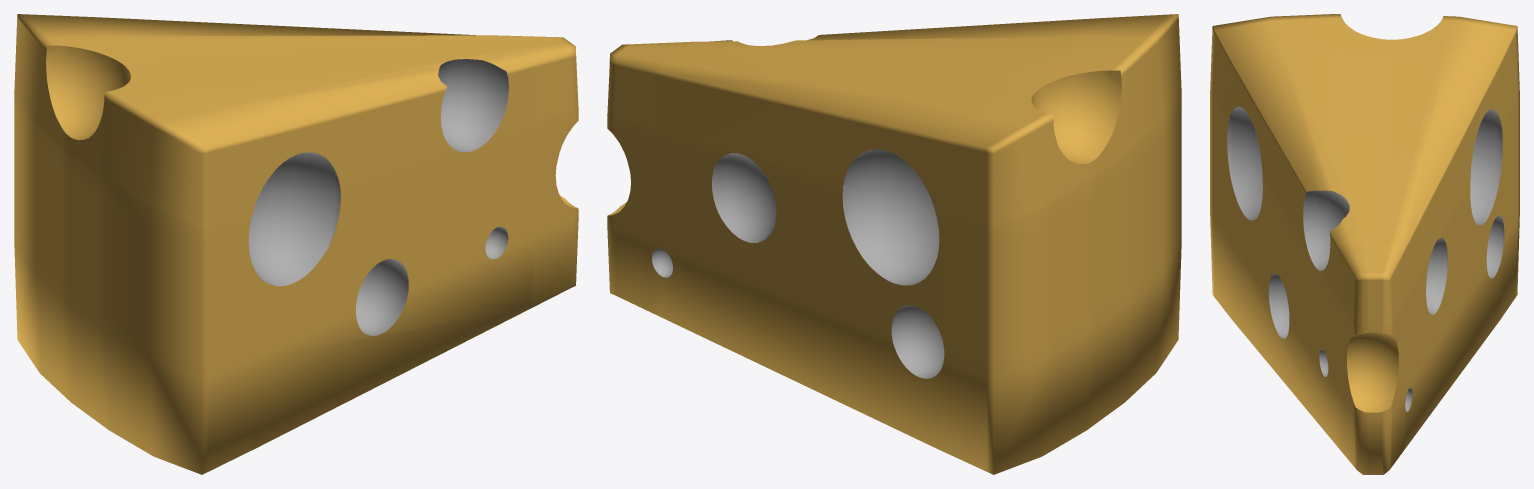
Rendered from Cheese 1.fbx.
3 renders of one model, left to right at view 1: azimuth 30°, elevation 25°; view 2: azimuth 150°, elevation 25°; view 3: azimuth 270°, elevation 25°, orthographic. The views are drawn at different scales.
Parts seen in each view (by area): view 1: cheese; view 2: cheese; view 3: cheese.
Part boxes in pixels (x1,y1,x2,y2): cheese: [14, 14, 578, 474]; cheese: [607, 14, 1181, 474]; cheese: [1210, 14, 1519, 474].
Size of the model in its own units: 291 by 189 by 192.
